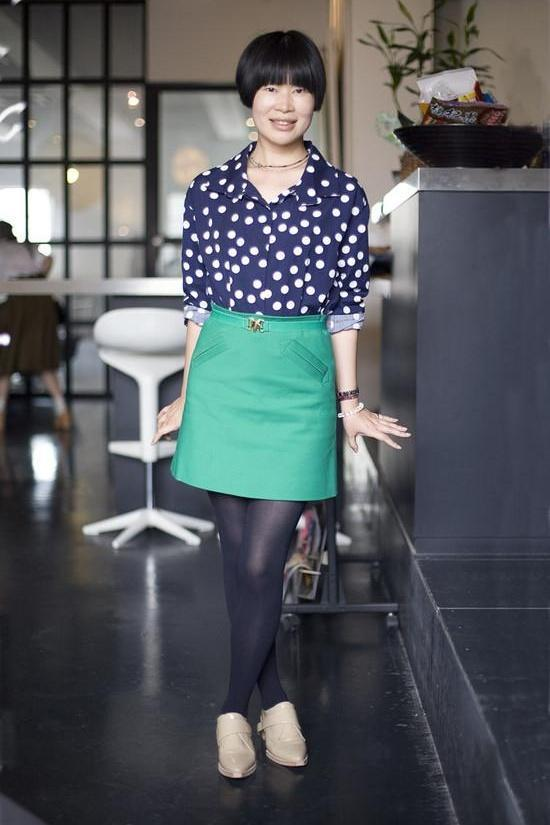shirt: (181, 139, 372, 335)
skirt: (172, 300, 339, 502)
